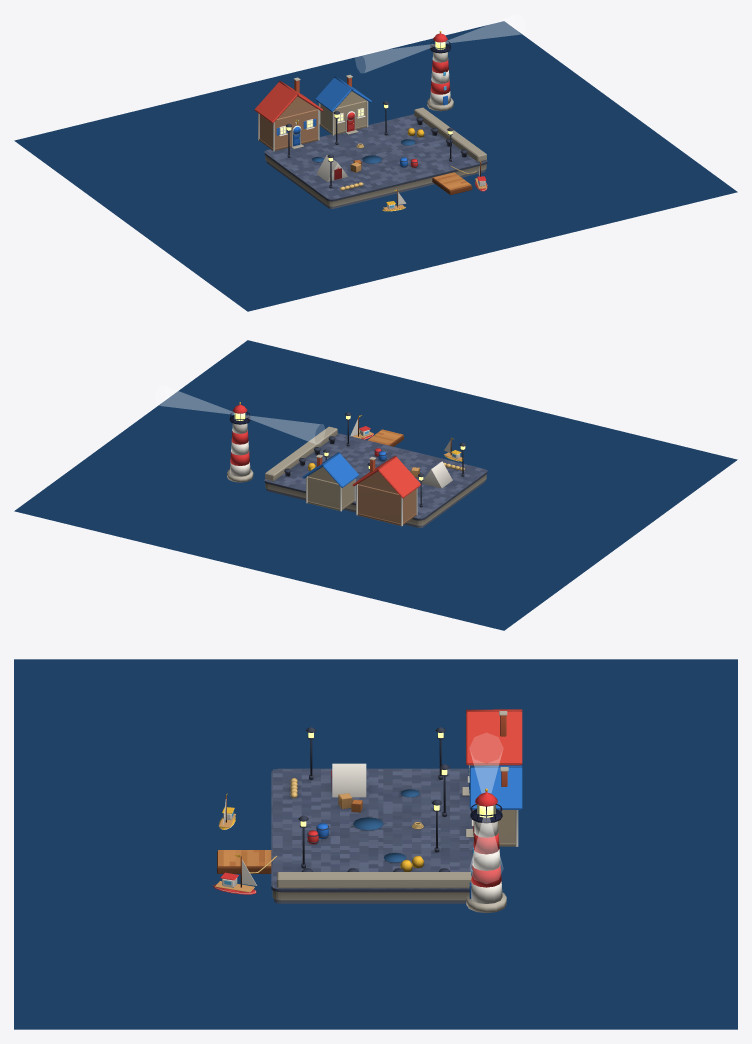
File: storm.glb
The picture shows the model from 3 angles, top to bottom: view 1: azimuth 30°, elevation 25°; view 2: azimuth 150°, elevation 25°; view 3: azimuth 270°, elevation 25°; orthographic projection. The views are drawn at different scales.
Parts seen in each view (by area): view 1: storm_Water, storm_Satin, storm_Gloss, Spin_beam_Beam, storm_Matte; view 2: storm_Water, storm_Satin, storm_Gloss, Spin_beam_Beam, storm_Matte; view 3: storm_Water, storm_Satin, storm_Gloss, Spin_beam_Beam, storm_Matte.
Part boxes in pixels (box(x1,y1,x2,y2)): storm_Water: box(14, 21, 737, 311); storm_Satin: box(258, 42, 487, 208); storm_Gloss: box(254, 33, 467, 185); Spin_beam_Beam: box(355, 14, 525, 72); storm_Matte: box(264, 114, 487, 201); storm_Water: box(14, 340, 737, 630); storm_Satin: box(227, 413, 487, 527); storm_Gloss: box(229, 404, 466, 504); Spin_beam_Beam: box(155, 386, 324, 443); storm_Matte: box(264, 433, 487, 520); storm_Water: box(14, 659, 737, 1029); storm_Satin: box(217, 711, 518, 912); storm_Gloss: box(298, 709, 522, 903); Spin_beam_Beam: box(470, 733, 502, 883); storm_Matte: box(271, 768, 469, 892).
Size of the model in its own units: 46 by 8.18 by 38.
